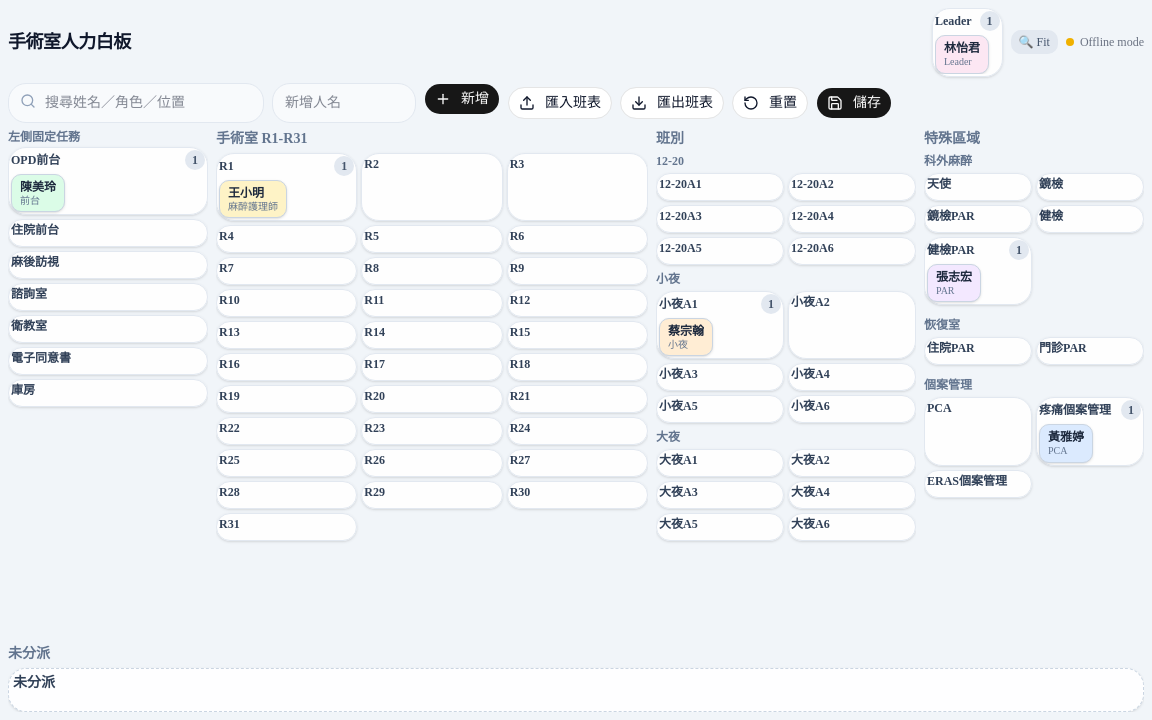
it: Board › search filters people by name
Type "王小明" into the field with placeholder "搜尋姓名／角色／位置" at x=136, y=102, box x1=8 y1=82 x2=264 y2=122
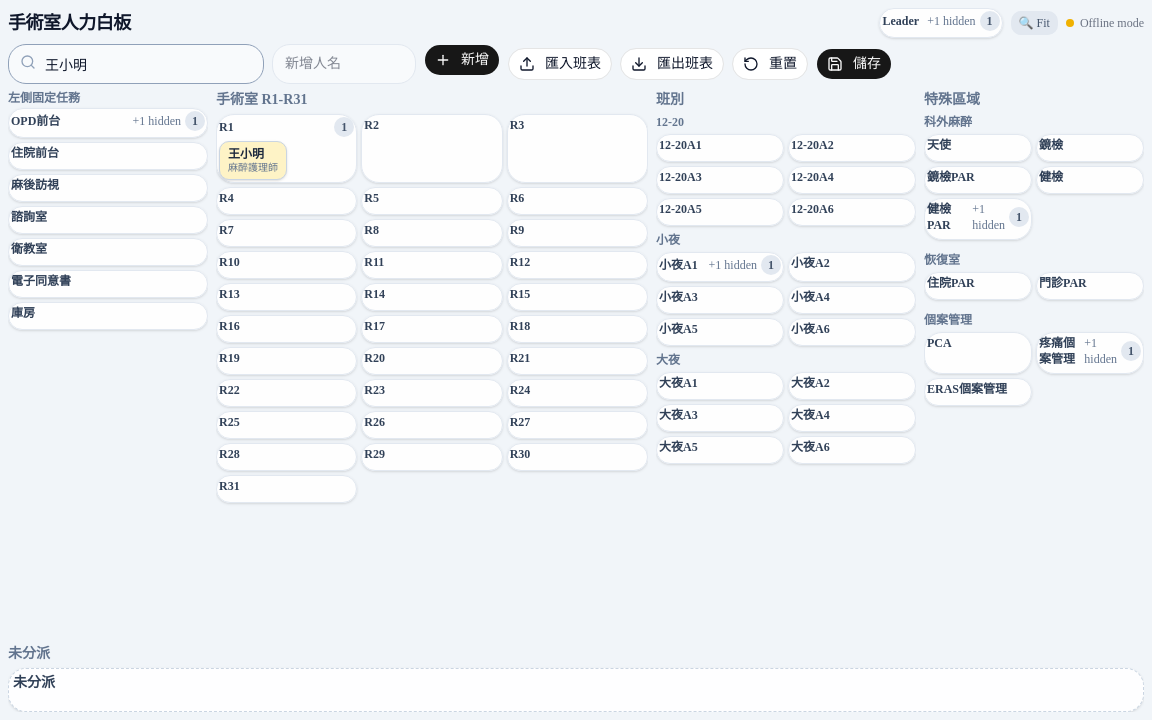
Expected: the text "王小明" is shown, x1=228 y1=147 x2=264 y2=161
Result: the button "林怡君" is gone
